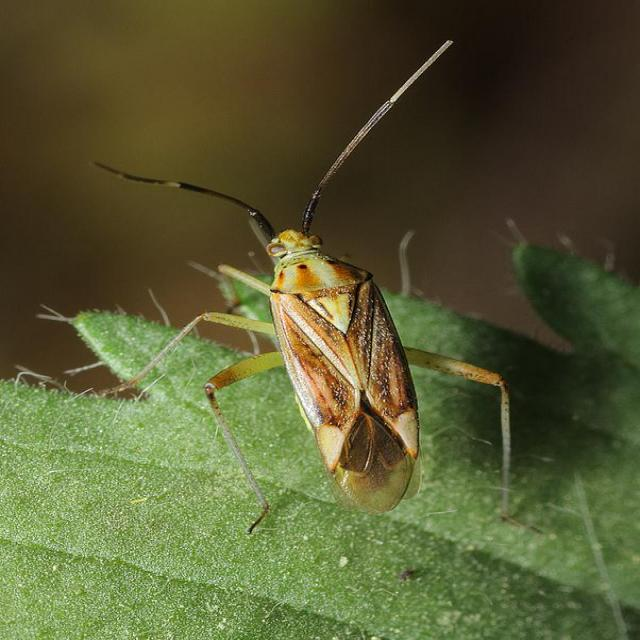Miridae-Adult-: (76, 34, 530, 526)
